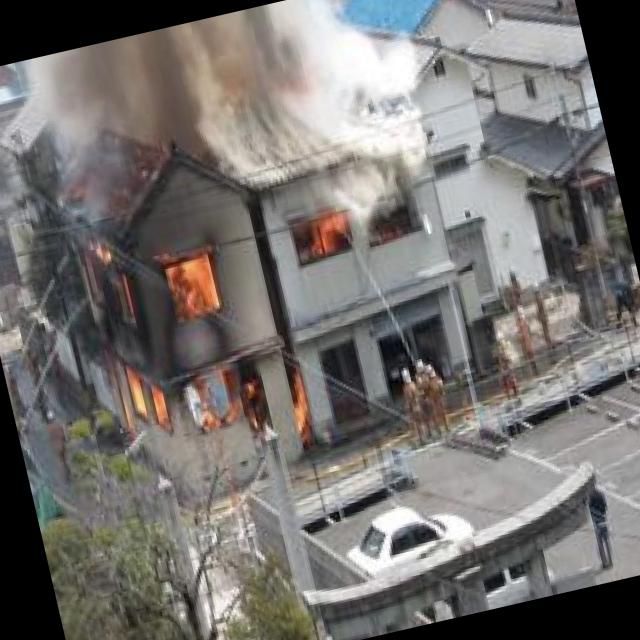Fire: (73, 187, 331, 480), (295, 206, 356, 264)
Smoke: (18, 0, 444, 240)
